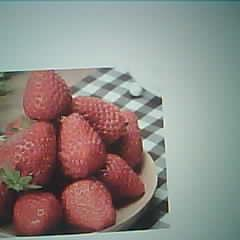straw-ripe: (61, 178, 115, 232), (10, 121, 55, 185), (58, 114, 104, 175), (23, 71, 71, 119)
